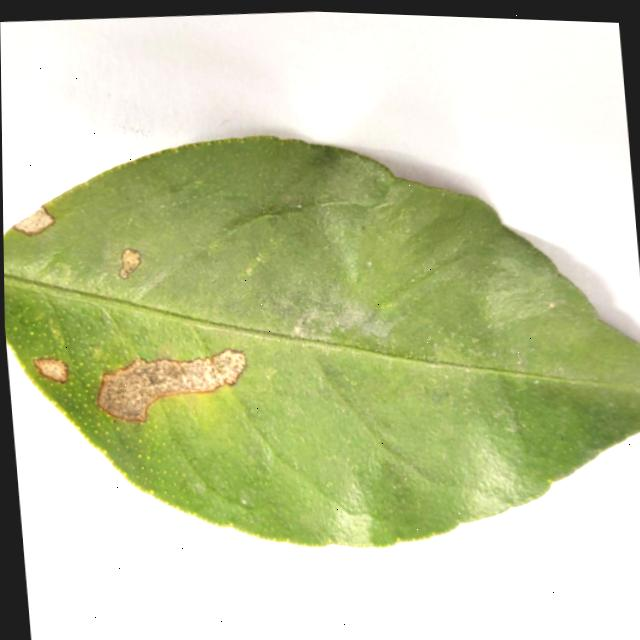antracnose: (3, 136, 640, 545), (97, 349, 246, 421), (13, 205, 54, 234), (33, 358, 68, 382), (119, 248, 141, 279)
